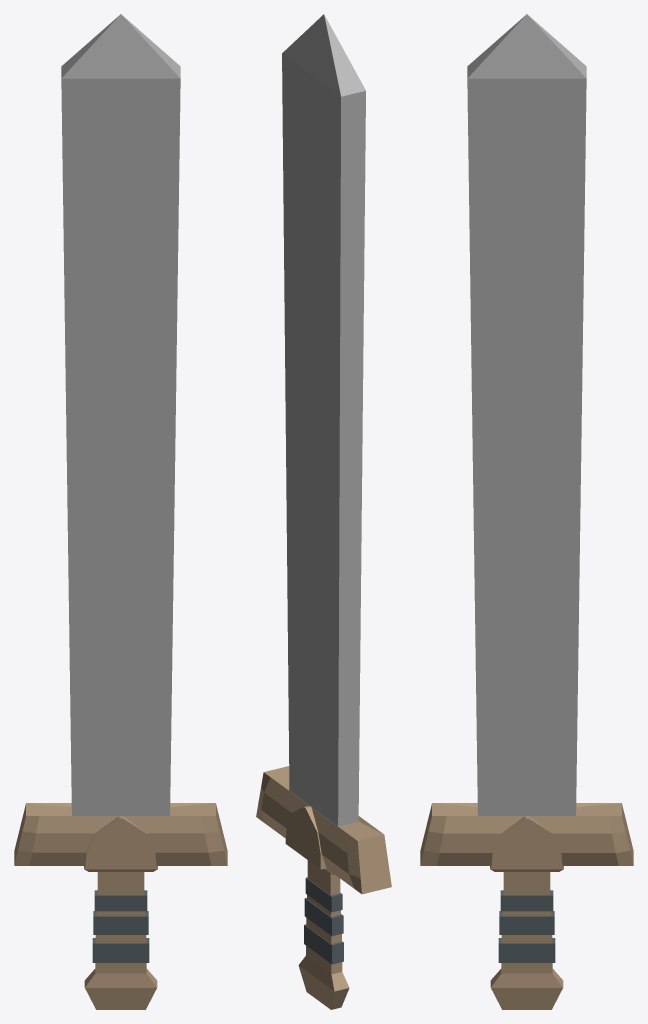
The model's file is iron_sword.glb.
3 views of the same model, side by side, from view 1: azimuth 90°, elevation 25°; view 2: azimuth 210°, elevation 25°; view 3: azimuth 270°, elevation 25° (orthographic).
Visible parts, largest first — view 1: wooden_sword.002; view 2: wooden_sword.002; view 3: wooden_sword.002.
Boxes of the visible parts, x1,y1,x2,y2 form: wooden_sword.002: (14, 14, 227, 1009); wooden_sword.002: (256, 14, 391, 1009); wooden_sword.002: (420, 14, 633, 1009).
Bounding box in the file's own units: 0.0445 × 1 × 0.1957.
